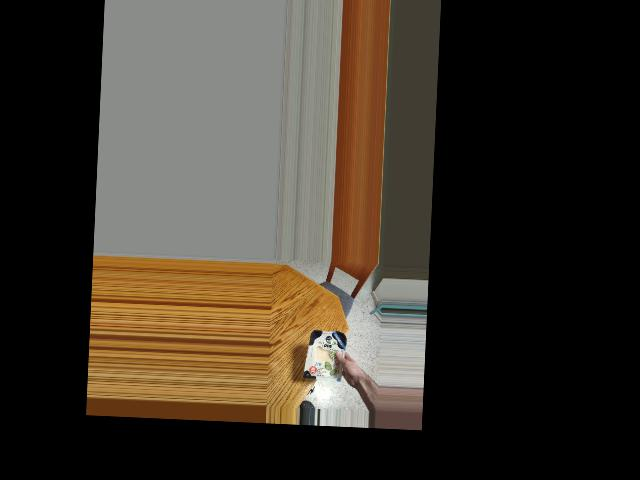cheese: (309, 323, 350, 390)
